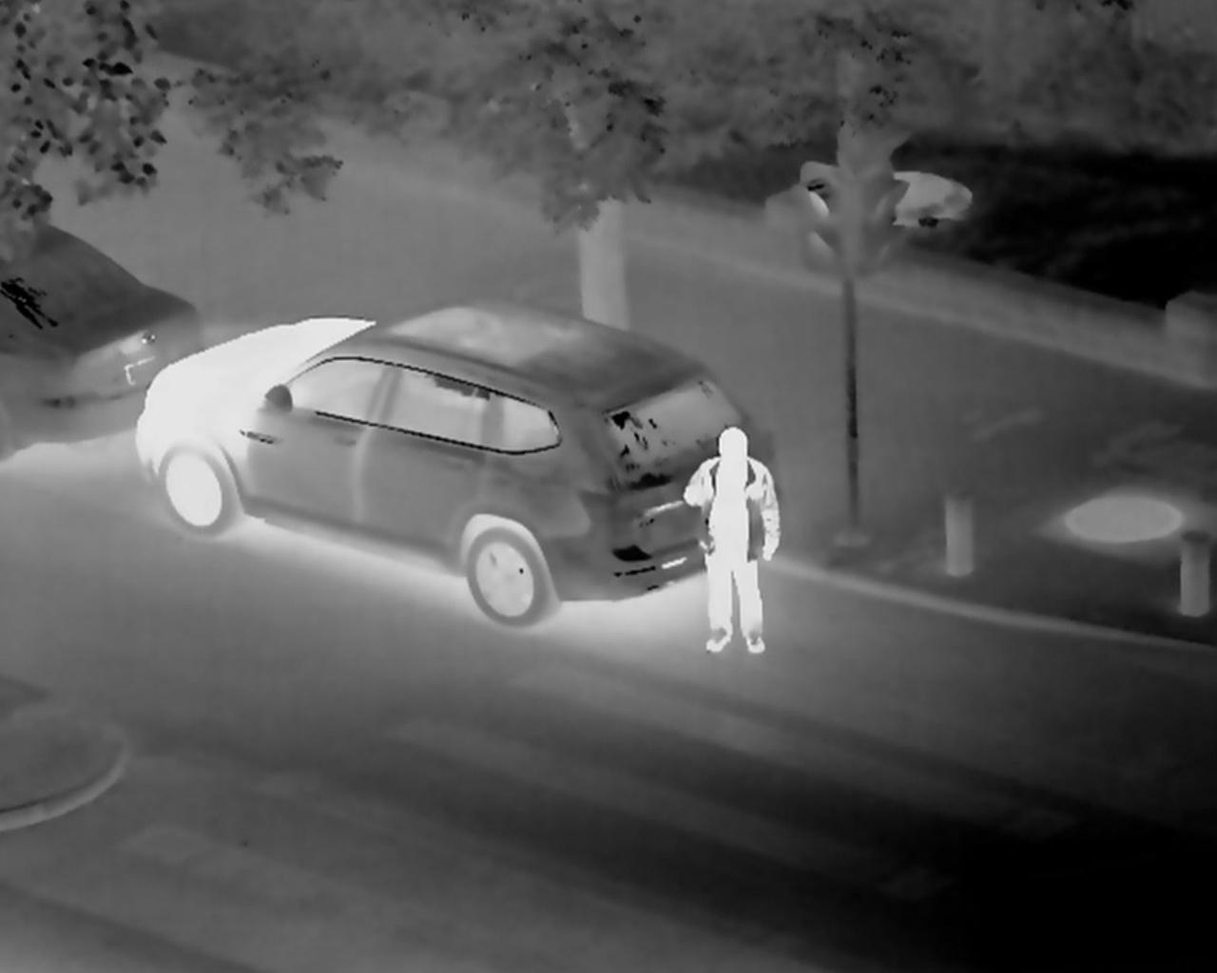person: (678, 427, 783, 658)
